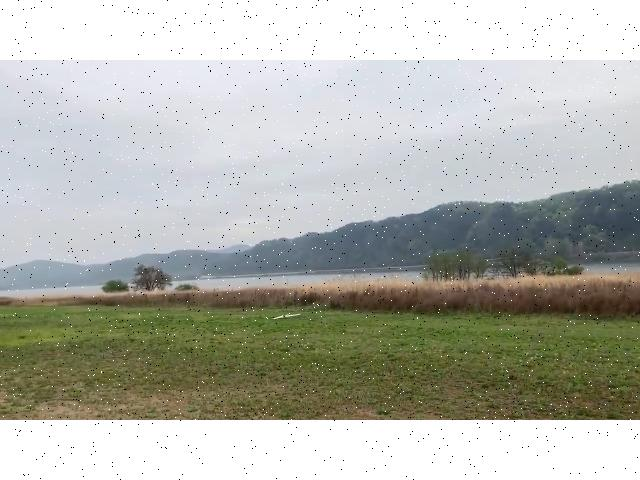Anti-Drone: (264, 307, 316, 327)
